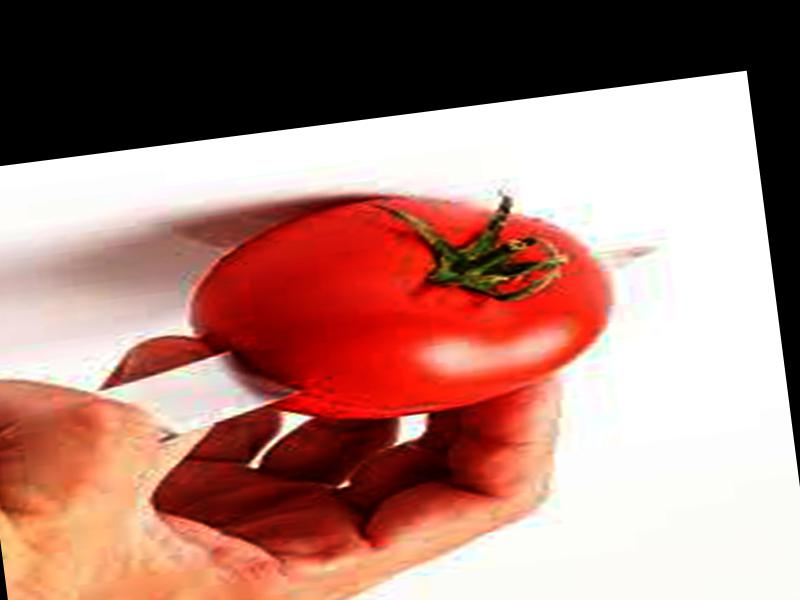Tomato: (180, 171, 616, 442)
